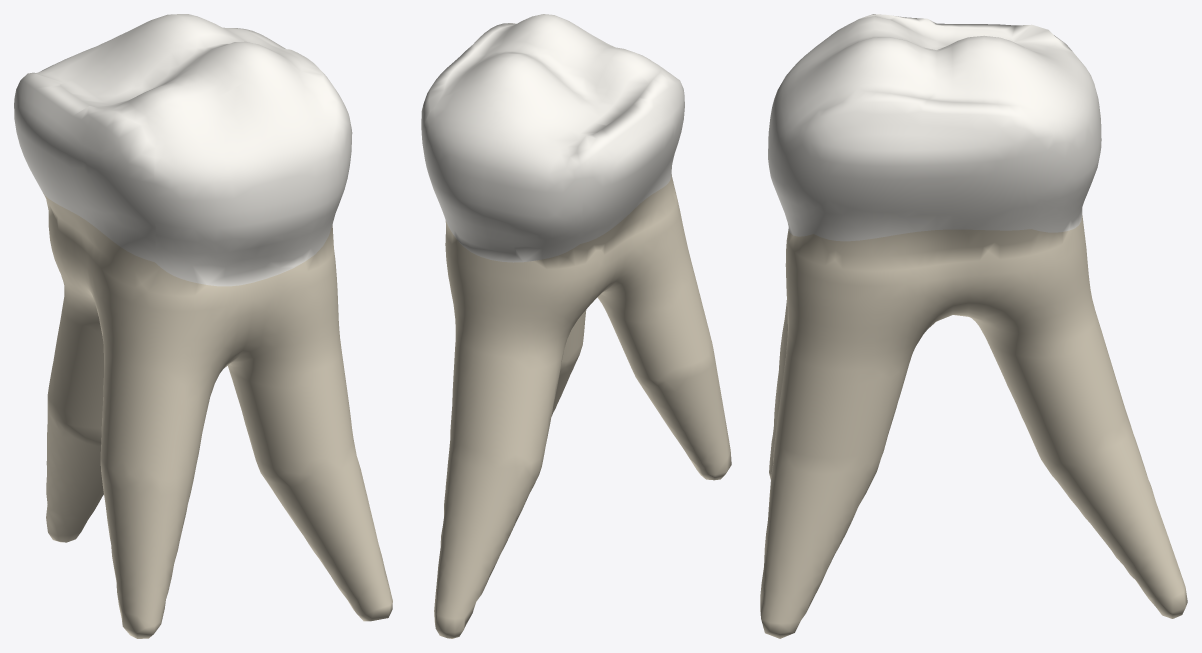
The picture shows the model from 3 angles, left to right: view 1: azimuth 30°, elevation 25°; view 2: azimuth 150°, elevation 25°; view 3: azimuth 270°, elevation 25°; orthographic projection. The views are drawn at different scales.
Visible parts, largest first — view 1: root, V, D, O, M, L; view 2: root, L, O, D, M; view 3: root, M, O, L, V, D.
Boxes of the visible parts, bbox=[...] form: root: bbox=[43, 193, 392, 638]; V: bbox=[154, 73, 349, 286]; D: bbox=[14, 72, 158, 262]; O: bbox=[60, 14, 302, 126]; M: bbox=[229, 28, 352, 173]; L: bbox=[34, 21, 148, 80]; root: bbox=[434, 174, 731, 638]; L: bbox=[423, 85, 582, 262]; O: bbox=[443, 14, 661, 135]; D: bbox=[577, 64, 684, 243]; M: bbox=[421, 23, 516, 152]; root: bbox=[760, 215, 1187, 638]; M: bbox=[801, 78, 1055, 241]; O: bbox=[842, 14, 1030, 105]; L: bbox=[1020, 39, 1101, 232]; V: bbox=[768, 27, 847, 236]; D: bbox=[831, 14, 1064, 44].
Bounding box in the file's own units: 7.65 × 16.7 × 10.89.
